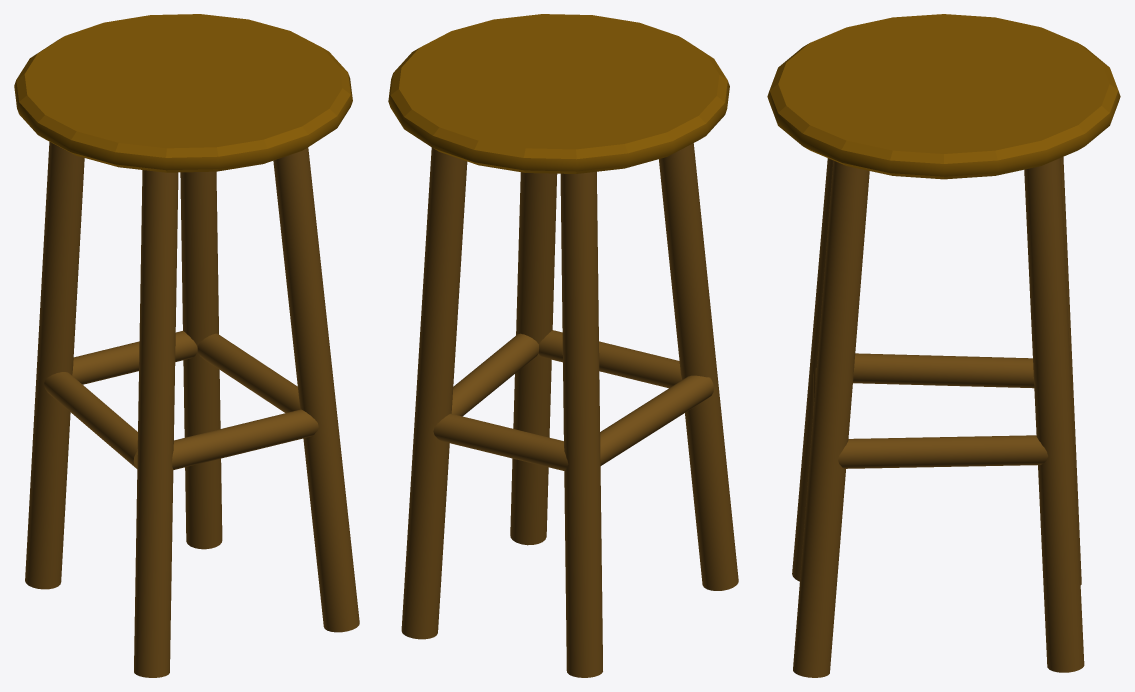
Rendered from Stool.fbx.
3 views of the same model, side by side, from view 1: azimuth 30°, elevation 25°; view 2: azimuth 150°, elevation 25°; view 3: azimuth 270°, elevation 25° (orthographic). The views are drawn at different scales.
Visible parts, largest first — view 1: Stool; view 2: Stool; view 3: Stool.
Part boxes in pixels (box(x1,y1,x2,y2)): Stool: box(14, 14, 359, 677); Stool: box(388, 14, 738, 677); Stool: box(767, 14, 1120, 677).
Size of the model in its own units: 7.89 by 13.37 by 7.89.
